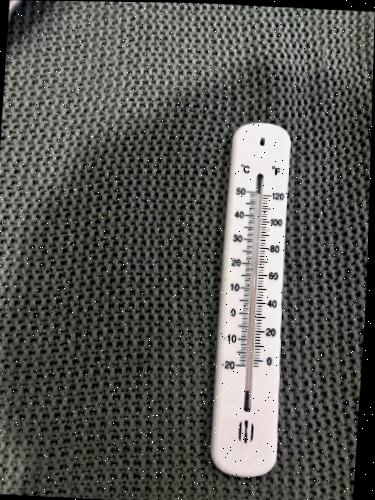thermo: (205, 118, 305, 477)
